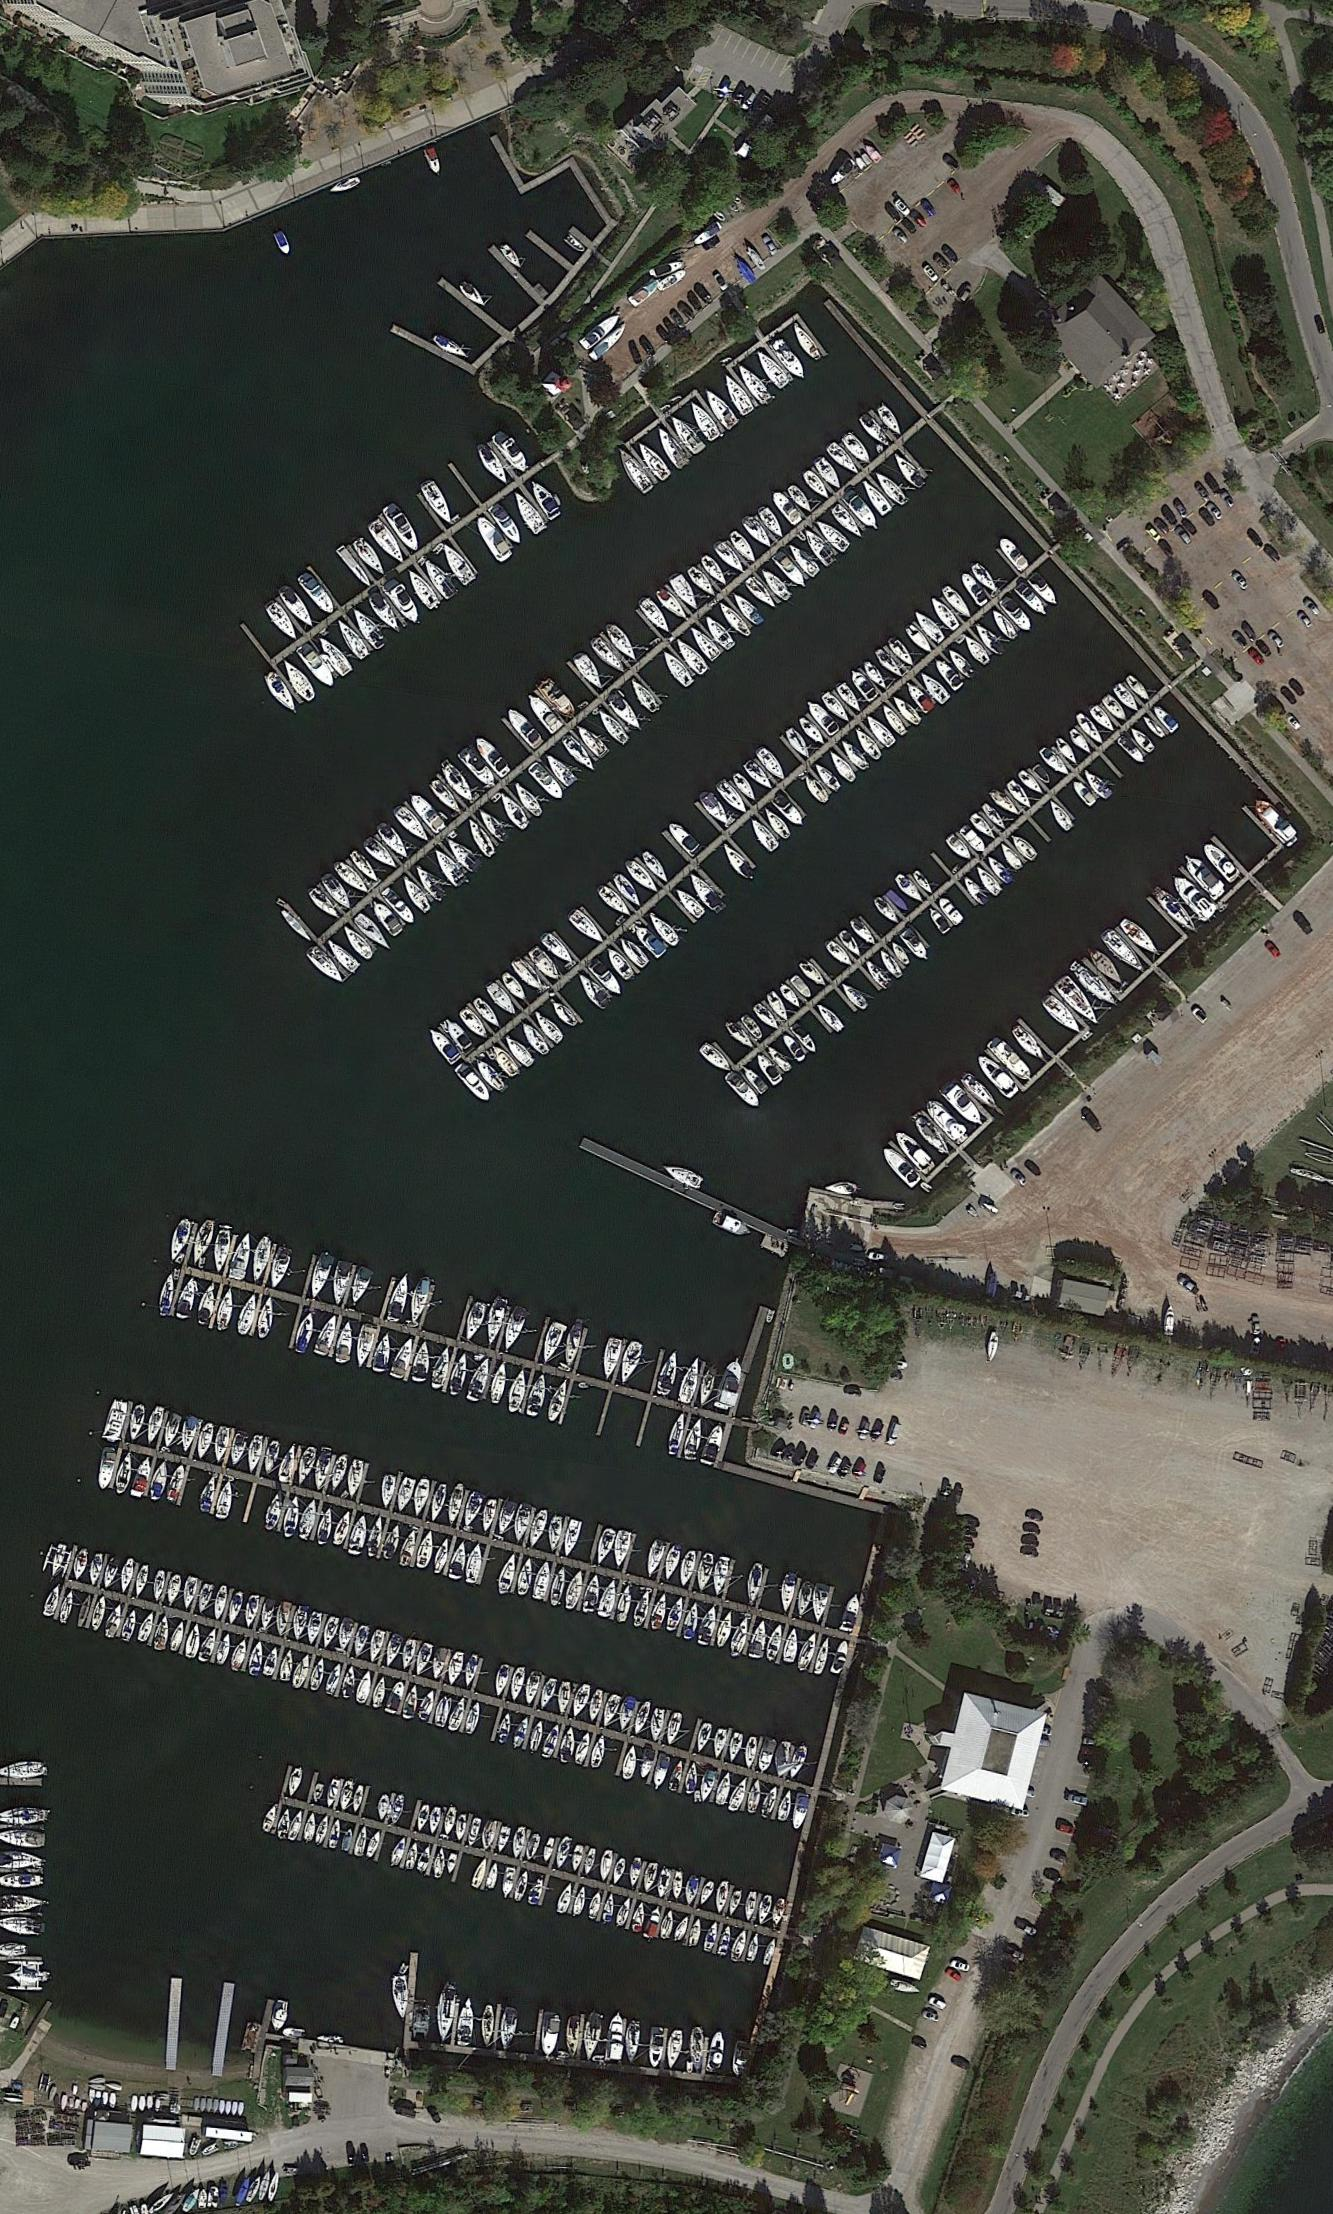harbor: (264, 387, 957, 988), (419, 520, 1078, 1109), (35, 1531, 822, 1833), (694, 659, 1192, 1113), (96, 1392, 863, 1676), (876, 788, 1303, 1192), (153, 1208, 745, 1471), (262, 1755, 791, 1970), (225, 414, 585, 720), (403, 1948, 756, 2084), (610, 305, 841, 501), (579, 1132, 791, 1243), (5, 1760, 55, 1989), (440, 275, 511, 340), (391, 323, 476, 376), (489, 244, 549, 310), (525, 228, 576, 274), (569, 225, 595, 250)
ship: (1048, 973, 1104, 1030), (376, 497, 425, 557), (1167, 870, 1218, 927), (922, 1094, 972, 1150), (1249, 795, 1300, 849), (1096, 925, 1150, 976), (972, 1048, 1023, 1102), (890, 1124, 939, 1180), (1181, 851, 1230, 905), (610, 443, 656, 500), (1151, 886, 1202, 936), (938, 1077, 987, 1129), (1067, 958, 1116, 1009), (985, 1033, 1034, 1083), (364, 514, 410, 568), (1116, 911, 1164, 962), (471, 514, 515, 568), (955, 1064, 1003, 1113), (296, 639, 342, 690), (471, 732, 515, 784), (840, 485, 886, 535), (878, 1145, 923, 1192), (1037, 992, 1085, 1037), (536, 675, 580, 724), (504, 705, 549, 754), (697, 384, 742, 433), (278, 655, 321, 705), (277, 580, 319, 631), (406, 788, 449, 838), (489, 425, 531, 476), (768, 332, 811, 383), (451, 1060, 497, 1105), (348, 603, 391, 652), (471, 440, 514, 489), (912, 1109, 953, 1159), (651, 421, 691, 473), (455, 743, 500, 789), (523, 759, 569, 803), (587, 319, 631, 365), (296, 569, 338, 617), (522, 690, 565, 737), (258, 666, 299, 715), (383, 576, 424, 625), (667, 410, 708, 459), (734, 361, 775, 410), (685, 395, 724, 446), (304, 943, 348, 987), (391, 802, 433, 848), (572, 968, 615, 1014), (685, 870, 727, 916), (576, 310, 621, 353), (349, 533, 391, 580), (365, 590, 406, 637), (1202, 840, 1243, 887), (422, 1022, 463, 1069), (332, 615, 372, 664), (487, 500, 527, 549), (634, 436, 674, 485), (417, 476, 457, 525), (525, 476, 565, 525), (509, 487, 549, 536), (563, 905, 606, 949), (606, 688, 647, 734), (425, 773, 466, 819), (421, 555, 460, 603), (753, 346, 792, 394), (497, 1303, 531, 1357), (656, 1156, 707, 1192), (353, 908, 394, 952), (327, 857, 372, 898), (590, 634, 631, 678), (436, 758, 478, 802), (621, 856, 666, 897), (591, 879, 636, 920), (335, 542, 375, 588), (315, 634, 354, 680), (403, 565, 443, 610), (541, 746, 580, 792), (672, 636, 712, 682), (440, 541, 478, 588), (659, 645, 697, 693), (724, 1067, 765, 1110), (664, 818, 705, 860), (628, 919, 669, 962), (367, 897, 406, 941), (1085, 943, 1124, 987), (593, 705, 633, 750), (685, 622, 724, 666), (803, 696, 843, 740), (587, 955, 626, 999), (511, 778, 549, 824), (719, 373, 757, 419), (615, 1336, 648, 1388), (651, 1347, 685, 1400), (187, 1215, 220, 1267), (713, 1362, 745, 1415), (307, 1248, 338, 1302), (380, 886, 421, 927), (304, 882, 345, 924), (443, 833, 484, 875), (890, 448, 930, 490), (1007, 1018, 1045, 1063), (719, 841, 757, 886), (413, 862, 451, 906), (647, 906, 685, 950), (319, 867, 356, 912), (264, 598, 300, 644), (667, 568, 704, 614), (574, 647, 609, 694), (361, 832, 402, 871), (768, 789, 808, 830), (651, 584, 691, 625), (528, 1006, 568, 1047), (813, 514, 852, 555), (772, 549, 811, 590), (338, 922, 376, 965), (375, 818, 413, 860), (560, 731, 598, 773), (715, 598, 753, 640), (602, 622, 640, 664), (432, 846, 470, 889), (998, 593, 1036, 636), (802, 527, 840, 569), (871, 467, 909, 509), (247, 1232, 277, 1286), (702, 610, 738, 655), (768, 485, 803, 531), (508, 954, 547, 993), (538, 927, 577, 966), (911, 607, 949, 648), (40, 1537, 76, 1580), (753, 742, 789, 784), (637, 593, 674, 636), (497, 791, 533, 833), (863, 712, 900, 754), (100, 1396, 131, 1445), (398, 871, 433, 916), (677, 1354, 705, 1407), (710, 536, 748, 576), (742, 572, 780, 612), (670, 884, 710, 922), (916, 669, 953, 708), (1014, 579, 1052, 618), (824, 440, 862, 479), (740, 754, 776, 795), (482, 977, 519, 1018), (871, 640, 908, 682), (738, 509, 775, 550), (432, 1983, 459, 2038), (851, 723, 886, 765), (697, 1422, 727, 1471), (463, 1355, 493, 1404), (708, 1208, 753, 1241), (719, 1015, 757, 1053), (829, 501, 867, 539), (326, 935, 362, 974), (713, 776, 750, 816), (731, 590, 767, 629), (724, 527, 761, 566), (609, 870, 645, 909), (972, 620, 1009, 659), (838, 427, 874, 467), (726, 764, 761, 805), (761, 803, 795, 844), (519, 1018, 553, 1060), (602, 943, 637, 984), (996, 535, 1031, 576), (810, 451, 844, 492), (799, 463, 833, 504), (859, 478, 893, 519), (754, 501, 789, 542), (787, 539, 822, 580), (346, 1264, 376, 1311), (628, 675, 661, 718), (229, 1230, 256, 1283), (164, 1215, 193, 1264), (697, 788, 734, 826), (501, 1033, 538, 1071), (931, 655, 968, 693), (1036, 743, 1074, 780), (748, 816, 783, 856), (930, 593, 963, 634), (848, 664, 881, 705), (482, 1294, 508, 1347), (406, 1275, 433, 1325), (267, 1243, 296, 1290), (313, 1313, 342, 1360), (791, 321, 822, 364), (466, 818, 497, 862), (759, 568, 795, 604), (525, 944, 561, 980), (455, 1006, 492, 1042), (471, 1056, 508, 1093), (889, 693, 925, 729), (857, 411, 893, 448), (696, 1041, 734, 1075), (209, 1222, 234, 1275), (278, 908, 313, 946), (836, 977, 871, 1015), (848, 912, 882, 950), (576, 721, 610, 759), (901, 618, 936, 656), (903, 678, 938, 716), (941, 584, 976, 622), (966, 557, 1001, 595), (1026, 569, 1061, 607), (819, 686, 854, 724), (680, 1415, 707, 1464), (546, 1377, 572, 1426), (972, 860, 1006, 900), (441, 1015, 474, 1055), (462, 1298, 490, 1344), (523, 1373, 552, 1419), (724, 1615, 753, 1660), (958, 569, 990, 610), (459, 1485, 489, 1528), (580, 2012, 606, 2062), (387, 1275, 413, 1325), (504, 1368, 531, 1415), (539, 1317, 566, 1365), (560, 1567, 587, 1615), (293, 1311, 319, 1358), (892, 871, 927, 908), (1007, 830, 1044, 865), (478, 808, 512, 844), (617, 935, 653, 969), (838, 737, 873, 773), (444, 1352, 473, 1396), (792, 1630, 821, 1675), (348, 844, 381, 882), (870, 890, 903, 928), (863, 957, 897, 995), (697, 550, 731, 588), (685, 561, 718, 599), (490, 1042, 523, 1080), (637, 844, 670, 882), (784, 479, 818, 517), (430, 329, 470, 361), (495, 1548, 520, 1597), (329, 1257, 354, 1306), (2, 1825, 51, 1850), (604, 2012, 628, 2064), (495, 2004, 522, 2050), (234, 1292, 261, 1338), (174, 1276, 201, 1322), (293, 1442, 319, 1488), (391, 1336, 417, 1382), (546, 995, 580, 1030), (454, 274, 489, 308), (987, 784, 1023, 818), (795, 712, 829, 748), (497, 966, 530, 1003), (783, 723, 814, 761), (1074, 707, 1105, 745), (560, 1515, 587, 1559), (145, 1460, 172, 1504), (874, 399, 904, 438), (541, 2008, 565, 2057), (353, 1320, 376, 1370), (704, 2029, 729, 2075), (429, 1347, 454, 1393), (599, 1335, 625, 1381), (142, 1401, 168, 1447), (111, 1452, 136, 1498), (346, 1512, 372, 1558), (365, 1515, 391, 1561), (942, 829, 976, 863), (966, 810, 999, 844), (822, 936, 855, 971), (470, 995, 503, 1030), (961, 633, 995, 667), (811, 759, 844, 794), (900, 925, 931, 962), (935, 892, 966, 928), (988, 607, 1020, 644), (827, 750, 859, 786), (525, 1506, 552, 1548), (792, 1577, 819, 1619), (879, 702, 909, 740), (743, 1559, 767, 1607), (561, 1320, 585, 1368), (768, 1740, 797, 1779), (255, 1295, 278, 1343), (675, 1545, 700, 1589), (530, 1559, 555, 1604), (696, 1605, 721, 1649), (750, 999, 783, 1033), (957, 821, 988, 856), (814, 999, 846, 1034), (1003, 775, 1034, 810), (1083, 767, 1115, 802), (832, 678, 863, 713), (754, 1052, 784, 1088), (961, 873, 991, 909), (878, 946, 908, 982), (889, 633, 919, 669), (1112, 678, 1142, 715), (462, 1542, 485, 1588), (215, 1287, 239, 1333), (164, 1463, 188, 1509), (130, 1455, 153, 1501), (198, 1279, 220, 1328), (596, 1580, 621, 1623), (1047, 797, 1075, 835), (862, 656, 890, 694), (447, 1537, 471, 1581), (756, 1733, 780, 1778), (514, 1555, 538, 1599), (546, 1566, 569, 1610), (748, 1618, 772, 1662), (157, 1273, 180, 1317), (372, 1332, 395, 1376), (2, 1914, 46, 1937), (296, 1499, 319, 1543), (825, 157, 857, 190), (985, 852, 1017, 886), (1123, 671, 1154, 704), (628, 277, 661, 308), (791, 1022, 821, 1056), (780, 1030, 810, 1064), (1069, 775, 1099, 810), (1151, 701, 1181, 735), (493, 1496, 519, 1537), (593, 1524, 618, 1566), (569, 1679, 595, 1721), (712, 1608, 737, 1649), (380, 1521, 405, 1562), (330, 1509, 356, 1550), (838, 1592, 863, 1634), (666, 1412, 688, 1458), (489, 1360, 511, 1406), (315, 1502, 337, 1548), (644, 1536, 667, 1578), (663, 1542, 686, 1585), (680, 1600, 704, 1643), (764, 1623, 787, 1665), (327, 1452, 351, 1494), (193, 1419, 217, 1461), (2, 1804, 51, 1825), (629, 1591, 655, 1630), (663, 1596, 688, 1635), (160, 1411, 185, 1450), (797, 958, 829, 990), (1116, 734, 1148, 765), (1015, 765, 1045, 799), (765, 1042, 795, 1075), (946, 645, 976, 678), (802, 772, 830, 807), (1053, 731, 1082, 765), (278, 1442, 300, 1487), (198, 1472, 220, 1517), (998, 840, 1025, 876), (836, 925, 863, 962), (764, 985, 791, 1022), (666, 2024, 686, 2072), (389, 1972, 410, 2019), (427, 1480, 451, 1521), (511, 1502, 534, 1543), (614, 1585, 637, 1626), (648, 1592, 672, 1634), (226, 1426, 250, 1468), (394, 1472, 417, 1513), (397, 1528, 421, 1569), (262, 1491, 286, 1532), (213, 1480, 237, 1521), (784, 1744, 810, 1782), (740, 1064, 770, 1096), (977, 799, 1007, 830), (1086, 702, 1116, 734), (693, 218, 724, 248), (610, 1526, 633, 1569), (710, 1555, 732, 1597), (312, 1449, 334, 1491), (414, 1529, 436, 1572), (737, 1011, 765, 1044), (1101, 691, 1129, 724), (1129, 723, 1157, 756), (446, 1480, 466, 1526), (283, 1494, 304, 1540), (757, 1784, 783, 1820), (327, 172, 364, 198), (648, 256, 685, 281), (650, 1751, 672, 1792), (731, 2038, 753, 2080), (694, 1550, 715, 1594), (245, 1433, 266, 1477), (696, 1766, 719, 1804), (727, 1778, 751, 1815), (6, 1966, 54, 1985), (631, 1698, 655, 1736), (599, 1692, 623, 1730), (269, 1997, 293, 2035), (337, 1320, 356, 1368), (96, 1444, 115, 1491), (323, 1660, 346, 1698), (384, 1679, 408, 1717), (289, 1653, 313, 1691), (212, 1632, 236, 1670), (198, 1627, 221, 1665), (383, 1630, 406, 1668), (927, 905, 953, 938), (1066, 723, 1093, 756), (655, 267, 689, 293), (776, 1572, 797, 1615), (583, 1574, 604, 1616), (345, 1456, 365, 1499), (553, 1831, 576, 1871), (492, 1659, 514, 1698), (127, 1403, 149, 1442), (183, 1623, 206, 1662), (565, 2013, 583, 2059), (811, 1580, 830, 1626), (712, 1771, 735, 1808), (462, 1702, 485, 1738), (536, 1675, 560, 1711), (228, 1637, 251, 1673), (103, 1604, 127, 1640), (40, 1583, 63, 1619), (193, 1578, 217, 1615), (882, 886, 911, 916), (546, 1512, 566, 1553), (697, 1366, 718, 1407), (813, 1635, 833, 1676), (259, 1438, 280, 1479), (402, 1683, 422, 1724), (541, 1724, 563, 1762), (588, 1735, 610, 1773), (444, 1649, 466, 1687), (410, 1474, 429, 1518), (270, 225, 296, 258), (307, 1656, 329, 1694), (168, 1618, 190, 1656), (413, 1638, 435, 1676), (319, 1611, 342, 1649), (225, 1588, 247, 1626), (625, 2016, 642, 2064), (100, 1555, 123, 1589), (432, 1537, 452, 1577), (508, 1664, 528, 1703), (587, 1684, 607, 1724), (617, 1694, 637, 1733), (560, 1725, 579, 1768), (212, 1423, 231, 1466), (413, 1343, 432, 1385), (909, 867, 936, 897), (776, 980, 803, 1011), (754, 1891, 776, 1928), (724, 1729, 746, 1765), (416, 1689, 438, 1725), (285, 1763, 307, 1800), (829, 1642, 851, 1678), (2, 1762, 47, 1779), (512, 1868, 533, 1906), (511, 1714, 531, 1752), (664, 1710, 685, 1747), (179, 1414, 198, 1455), (356, 1670, 376, 1708), (117, 1555, 136, 1596), (335, 1615, 356, 1653), (572, 1732, 595, 1766), (648, 2024, 666, 2069), (446, 1698, 468, 1733), (693, 1721, 715, 1755), (2, 1850, 46, 1868), (2, 1895, 46, 1912), (500, 240, 525, 270), (522, 1830, 546, 1861), (621, 1744, 640, 1784), (791, 1792, 810, 1831), (459, 2001, 474, 2048), (90, 1594, 109, 1634), (889, 938, 912, 969), (734, 255, 757, 286), (745, 244, 768, 275), (430, 1645, 451, 1681), (338, 1665, 359, 1702), (247, 1642, 267, 1678), (286, 1808, 307, 1844), (389, 1790, 410, 1827), (337, 1776, 357, 1812), (119, 1608, 139, 1645), (398, 1637, 419, 1673), (353, 1621, 373, 1657), (527, 1876, 549, 1909), (387, 1834, 410, 1868), (689, 2023, 704, 2073), (523, 1668, 542, 1706), (555, 1676, 574, 1714), (462, 1653, 481, 1691), (783, 1627, 802, 1665), (372, 1675, 391, 1713), (74, 1592, 93, 1630), (367, 1626, 386, 1664), (291, 1604, 310, 1642), (468, 1857, 489, 1891), (636, 1746, 656, 1781), (569, 1883, 590, 1918), (644, 1906, 664, 1940), (702, 1920, 723, 1955), (715, 1925, 735, 1959), (729, 1928, 750, 1963), (261, 1645, 281, 1679), (313, 1814, 334, 1849), (138, 1610, 158, 1645), (362, 1830, 384, 1861), (509, 1823, 528, 1860), (557, 1880, 576, 1917), (153, 1616, 172, 1653), (59, 1589, 77, 1626), (479, 1819, 500, 1852), (1142, 713, 1167, 740), (147, 2190, 176, 2214), (179, 2186, 202, 2214), (2, 1872, 44, 1888), (791, 973, 814, 1001), (232, 2178, 255, 2208), (655, 1865, 674, 1899), (629, 1901, 648, 1936), (745, 1931, 764, 1966), (650, 1705, 667, 1743), (712, 1724, 729, 1762), (743, 1733, 761, 1771), (300, 1811, 319, 1846), (133, 1561, 150, 1599), (887, 1978, 922, 1997), (481, 2001, 495, 2046), (658, 1909, 678, 1940), (259, 1803, 280, 1834), (561, 232, 588, 256), (743, 1888, 761, 1925), (746, 1779, 764, 1815), (481, 1496, 498, 1532), (497, 1714, 515, 1747), (682, 1762, 700, 1795), (266, 2171, 285, 2205), (278, 1649, 297, 1683), (984, 1328, 1003, 1362), (672, 1914, 693, 1944), (642, 1860, 659, 1895), (770, 1895, 787, 1929), (528, 1721, 546, 1755), (778, 1789, 795, 1823), (349, 1781, 367, 1815), (164, 1572, 182, 1607), (825, 1180, 860, 1197), (598, 1846, 614, 1883), (610, 1855, 629, 1887), (715, 1879, 731, 1917), (493, 1823, 512, 1855), (667, 1762, 686, 1793), (585, 1890, 604, 1921), (614, 1898, 633, 1929), (686, 1917, 705, 1948), (761, 1936, 780, 1967), (380, 1471, 395, 1509), (414, 1844, 433, 1876), (182, 1574, 198, 1611), (305, 1608, 321, 1646), (1031, 761, 1055, 786), (433, 1697, 451, 1730), (259, 1597, 277, 1630), (73, 1543, 89, 1580), (213, 1585, 229, 1621), (697, 1879, 716, 1909), (726, 1887, 745, 1917), (258, 2167, 274, 2201), (354, 1825, 370, 1860), (414, 1801, 432, 1833), (326, 1776, 342, 1811), (244, 1592, 258, 1630), (443, 1804, 459, 1838), (466, 1815, 482, 1849), (500, 1865, 515, 1898), (277, 1809, 293, 1842), (862, 141, 884, 164), (485, 1861, 503, 1891), (3, 1939, 28, 1959), (275, 1600, 289, 1637), (432, 1849, 447, 1880), (602, 1891, 618, 1923), (329, 1819, 345, 1850), (376, 1792, 392, 1823), (150, 1569, 166, 1600), (424, 145, 441, 174), (89, 1551, 103, 1586), (541, 1834, 557, 1865), (452, 1812, 468, 1842), (247, 2174, 262, 2205), (405, 1842, 421, 1872), (429, 1801, 443, 1834), (338, 1827, 356, 1853), (569, 1842, 583, 1874), (1162, 1305, 1176, 1336), (670, 1869, 685, 1899), (583, 1846, 598, 1876), (628, 1855, 640, 1888), (685, 1876, 697, 1909), (283, 2024, 307, 2042), (187, 2133, 202, 2159), (199, 2141, 221, 2159), (444, 1849, 459, 1876), (209, 2186, 223, 2209), (312, 1781, 326, 1804), (196, 2189, 210, 2211), (316, 2034, 345, 2045), (859, 150, 874, 168), (852, 153, 867, 171), (47, 2084, 59, 2102), (104, 2080, 122, 2091), (93, 2091, 103, 2110), (89, 2083, 108, 2092), (9, 2015, 21, 2031), (87, 2076, 108, 2084), (225, 2140, 239, 2151), (60, 2094, 68, 2113), (87, 2089, 96, 2105), (199, 2095, 207, 2114), (237, 2100, 245, 2118), (206, 2097, 213, 2114), (139, 2094, 145, 2113), (225, 2100, 232, 2114), (131, 2095, 138, 2113), (193, 2097, 199, 2114), (147, 2095, 153, 2111), (155, 2097, 161, 2113), (103, 2092, 109, 2106), (232, 2102, 239, 2116), (218, 2100, 225, 2114), (111, 2092, 115, 2110), (213, 2099, 218, 2114)
